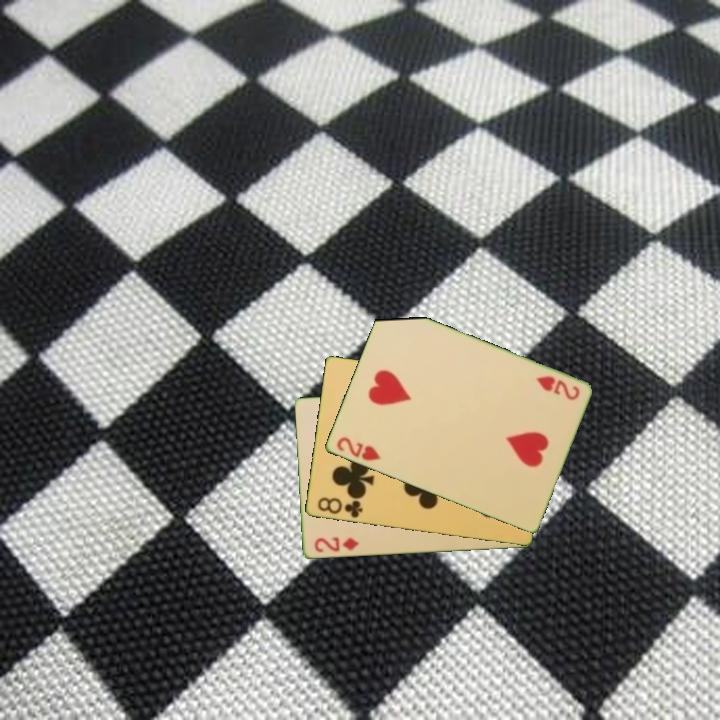2d: (310, 534, 361, 555)
2h: (333, 433, 383, 464), (532, 372, 582, 403)
8c: (314, 494, 365, 521)
